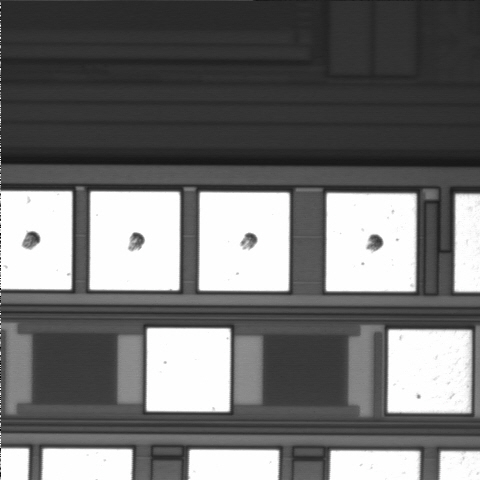pad: (199, 192, 289, 291), (90, 192, 180, 290), (326, 193, 416, 291), (147, 328, 230, 412), (388, 330, 471, 413)
